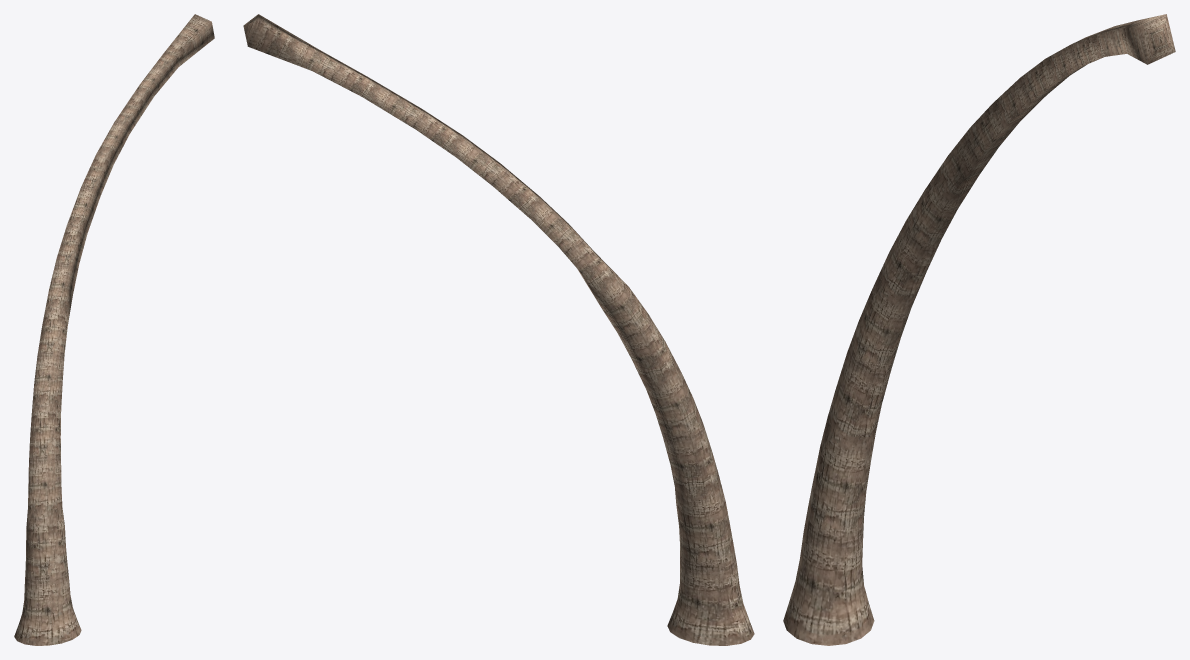
The model's file is m_palm_p2_8_trunk_0_lev2.glb.
3 views of the same model, side by side, from view 1: azimuth 30°, elevation 25°; view 2: azimuth 150°, elevation 25°; view 3: azimuth 270°, elevation 25° (orthographic). The views are drawn at different scales.
Parts seen in each view (by area): view 1: m_palm_p2_8_trunk_0_lev2; view 2: m_palm_p2_8_trunk_0_lev2; view 3: m_palm_p2_8_trunk_0_lev2.
Part boxes in pixels (x1,y1,x2,y2): m_palm_p2_8_trunk_0_lev2: [14, 14, 214, 645]; m_palm_p2_8_trunk_0_lev2: [243, 14, 754, 645]; m_palm_p2_8_trunk_0_lev2: [783, 14, 1175, 645].
Bounding box in the file's own units: 2.11 × 3.33 × 1.46.
Materials: 1 (1 with a texture image).
